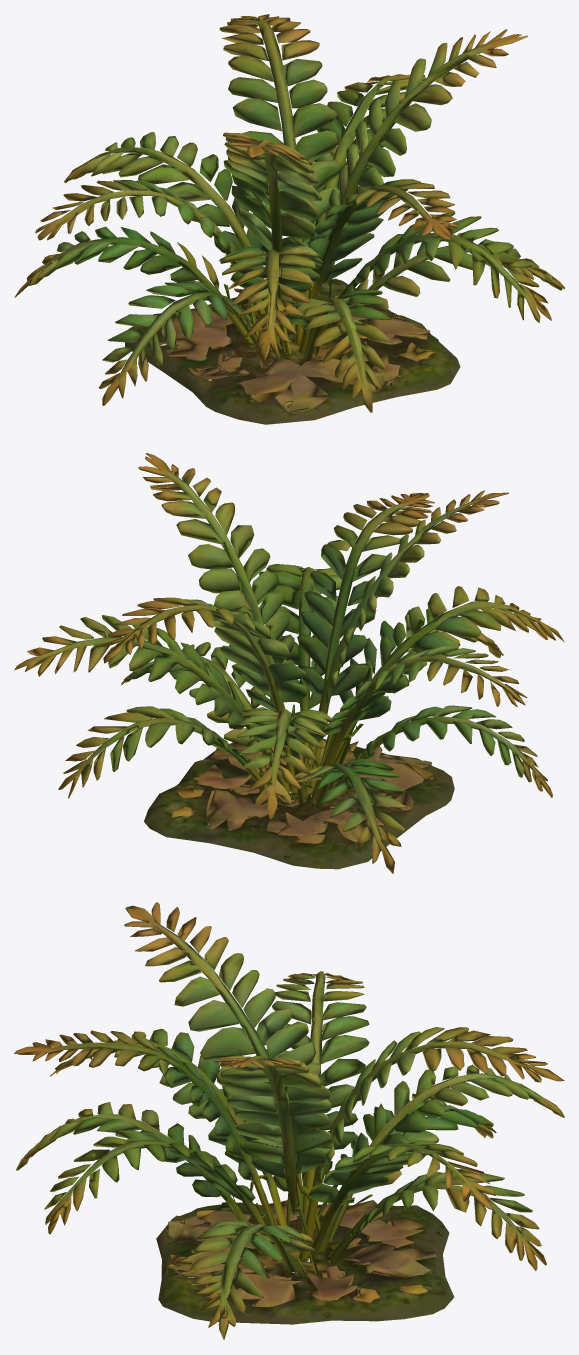
File: nature_fern.glb
3 renders of one model, top to bottom at view 1: azimuth 30°, elevation 25°; view 2: azimuth 150°, elevation 25°; view 3: azimuth 270°, elevation 25°, orthographic. The views are drawn at different scales.
Visible parts, largest first — view 1: world; view 2: world; view 3: world.
Boxes of the visible parts, x1,y1,x2,y2 form: world: (14,14,564,424); world: (14,453,564,873); world: (14,902,564,1339).
Bounding box in the file's own units: 1.35 × 0.7992 × 1.35.
1 material, 1 textured.
